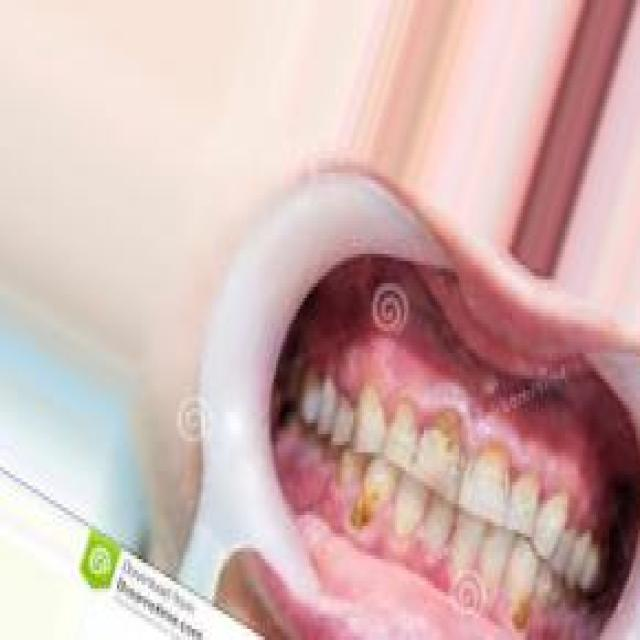caries: (423, 398, 470, 467)
